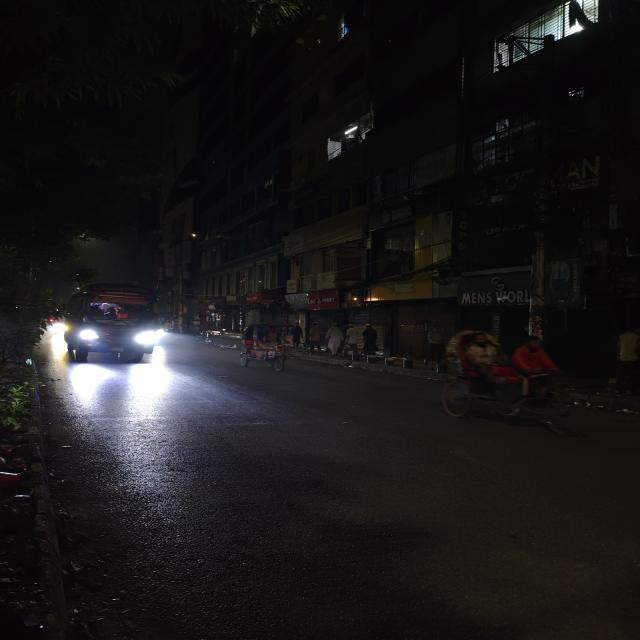bus: (56, 281, 170, 366)
car: (56, 281, 170, 366)
rickshaw: (431, 324, 599, 441), (234, 321, 295, 375)
